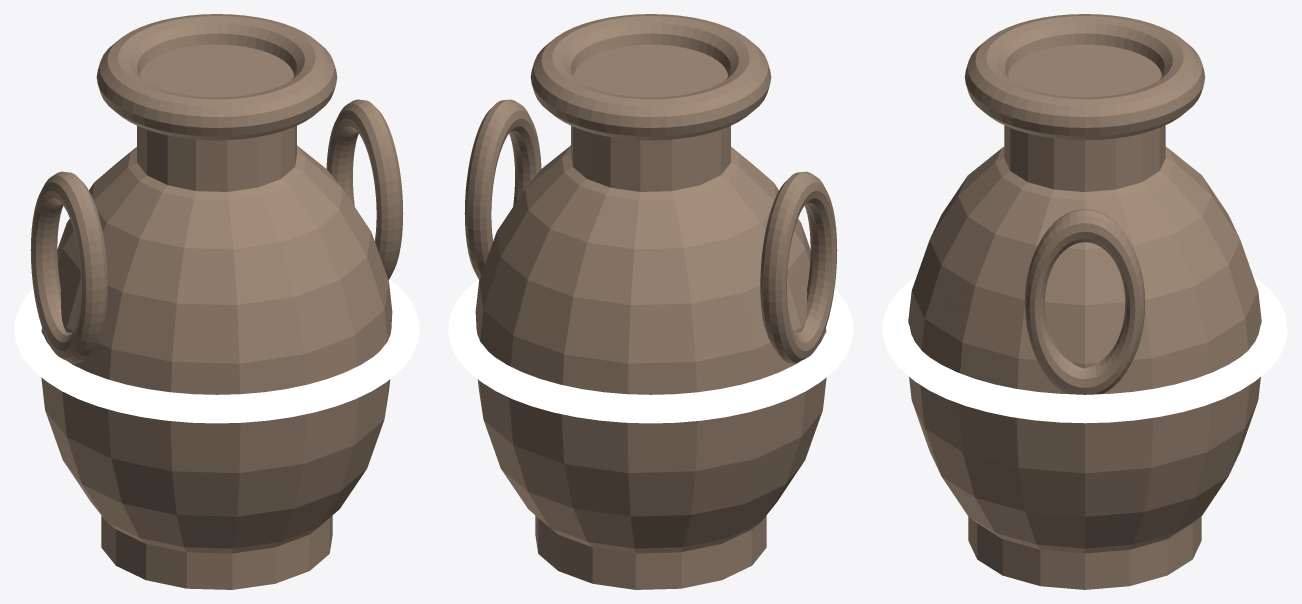
The model's file is PhaseShiftCursedUrn.glb.
3 views of the same model, side by side, from view 1: azimuth 30°, elevation 25°; view 2: azimuth 150°, elevation 25°; view 3: azimuth 270°, elevation 25° (orthographic).
Parts seen in each view (by area): view 1: PhaseShiftCursedUrn; view 2: PhaseShiftCursedUrn; view 3: PhaseShiftCursedUrn.
Part boxes in pixels (x1=…): PhaseShiftCursedUrn: x1=14, y1=14, x2=419, y2=589; PhaseShiftCursedUrn: x1=448, y1=14, x2=853, y2=589; PhaseShiftCursedUrn: x1=882, y1=14, x2=1287, y2=589.
Bounding box in the file's own units: 2.26 × 3.07 × 2.26.
